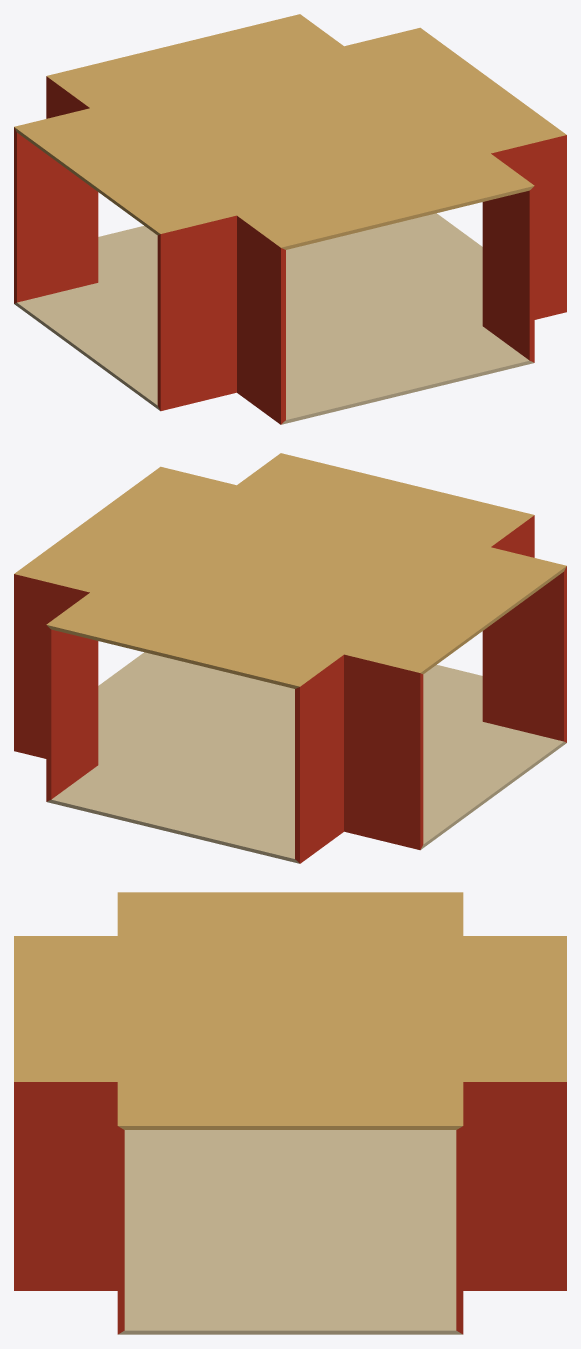
3 renders of one model, top to bottom at view 1: azimuth 30°, elevation 25°; view 2: azimuth 150°, elevation 25°; view 3: azimuth 270°, elevation 25°, orthographic. The views are drawn at different scales.
Visible parts, largest first — view 1: PlanoX; view 2: PlanoX; view 3: PlanoX.
Part boxes in pixels (x1,y1,x2,y2): PlanoX: (14,14,566,424); PlanoX: (14,453,566,863); PlanoX: (14,892,566,1334).
Size of the model in its own units: 1000 by 417 by 1000.
